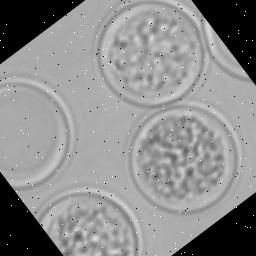picoshell: (127, 99, 242, 211), (95, 0, 209, 107), (0, 75, 75, 188), (36, 185, 143, 256), (203, 16, 252, 80)
